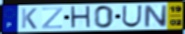0: (93, 5, 117, 30)
H: (70, 5, 93, 30)
K: (20, 7, 39, 30)
N: (143, 4, 168, 28)
U: (121, 5, 144, 29)
Z: (41, 7, 65, 30)
